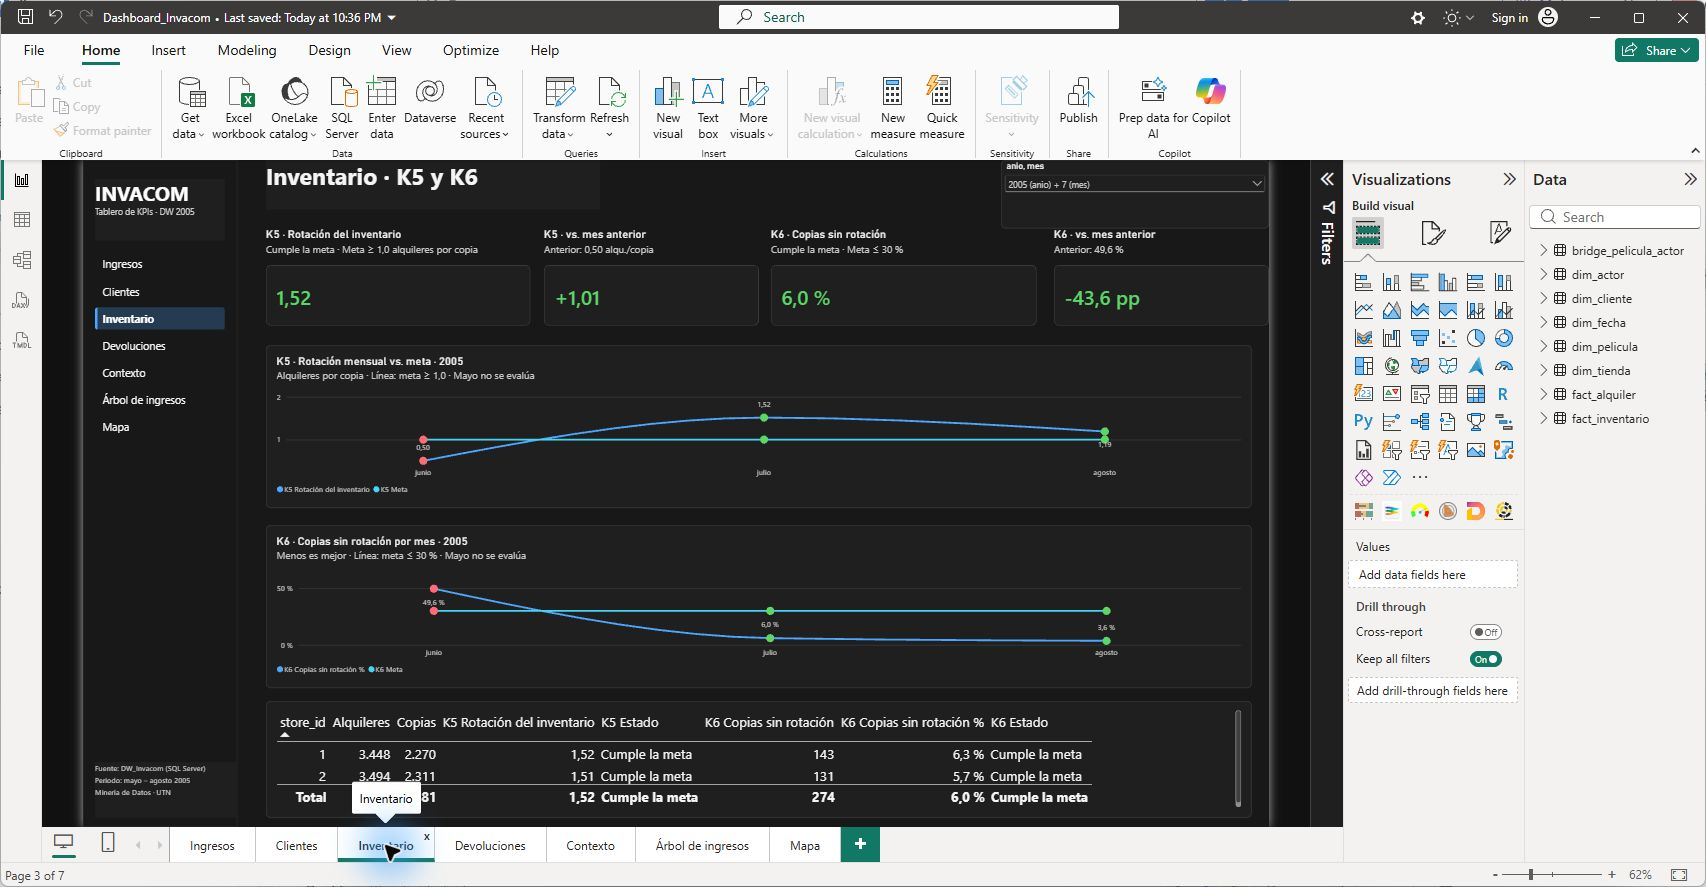

What the dashboard file says about the page in this screenshot:
{"tool":"powerbi","page":{"name":"Inventario · K5 y K6","canvas":[1920,1080],"ordinal":3},"visuals":[{"type":"shape","box":[0,0,250,1080],"z":0},{"type":"pageNavigator","box":[20,150,210,300],"z":1},{"type":"textbox","box":[20,30,210,100],"z":2},{"type":"tableEx","fields":{"Values":["dim_tienda.store_id","fact_alquiler.Alquileres","fact_inventario.Copias","fact_alquiler.K5 Rotación del inventario","fact_alquiler.K5 Estado","fact_inventario.K6 Copias sin rotación","fact_inventario.K6 Copias sin rotación %","fact_inventario.K6 Estado"]},"box":[296.3,855.1,1595.9,189.2],"z":3},{"type":"slicer","fields":{"Values":["dim_fecha.anio","dim_fecha.mes"]},"box":[1487,0,433.8,110.7],"z":4},{"type":"cardVisual","title":"K5 · Rotación del inventario","fields":{"Data":["fact_alquiler.K5 Texto"]},"box":[296.3,110.7,785.5,230.3],"z":5},{"type":"cardVisual","title":"K6 · Copias sin rotación","fields":{"Data":["fact_inventario.K6 Texto"]},"box":[1113.9,110.7,778.3,230.3],"z":6},{"type":"textbox","box":[296.3,0,540.9,80.3],"z":7},{"type":"lineClusteredColumnComboChart","title":"K5 · Rotación mensual vs. meta · 2005","fields":{"Category":["dim_fecha.nombre_mes"],"Y":["fact_alquiler.K5 Rotación del inventario"],"Y2":["fact_alquiler.K5 Meta"]},"box":[296.3,376.7,785.5,453.4],"z":8},{"type":"lineClusteredColumnComboChart","title":"K6 · Copias sin rotación por mes · 2005","fields":{"Category":["dim_fecha.nombre_mes"],"Y":["fact_inventario.K6 Copias sin rotación %"],"Y2":["fact_inventario.K6 Meta"]},"box":[1113.9,376.7,785.5,453.4],"z":9}]}

Visuals, with their boxes on the page's 1920x1080 design canvas (x1, y1, x2, y2). These are canvas units, not pixel positions in the 1706x887 screenshot, which may show the page scaled, cropped or inside an application window:
shape: Rect(0, 0, 250, 1080)
pageNavigator: Rect(20, 150, 230, 450)
textbox: Rect(20, 30, 230, 130)
tableEx - dim_tienda.store_id x fact_alquiler.Alquileres: Rect(296, 855, 1892, 1044)
slicer - dim_fecha.anio x dim_fecha.mes: Rect(1487, 0, 1921, 111)
"K5 · Rotación del inventario" cardVisual: Rect(296, 111, 1082, 341)
"K6 · Copias sin rotación" cardVisual: Rect(1114, 111, 1892, 341)
textbox: Rect(296, 0, 837, 80)
"K5 · Rotación mensual vs. meta · 2005" lineClusteredColumnComboChart: Rect(296, 377, 1082, 830)
"K6 · Copias sin rotación por mes · 2005" lineClusteredColumnComboChart: Rect(1114, 377, 1899, 830)
